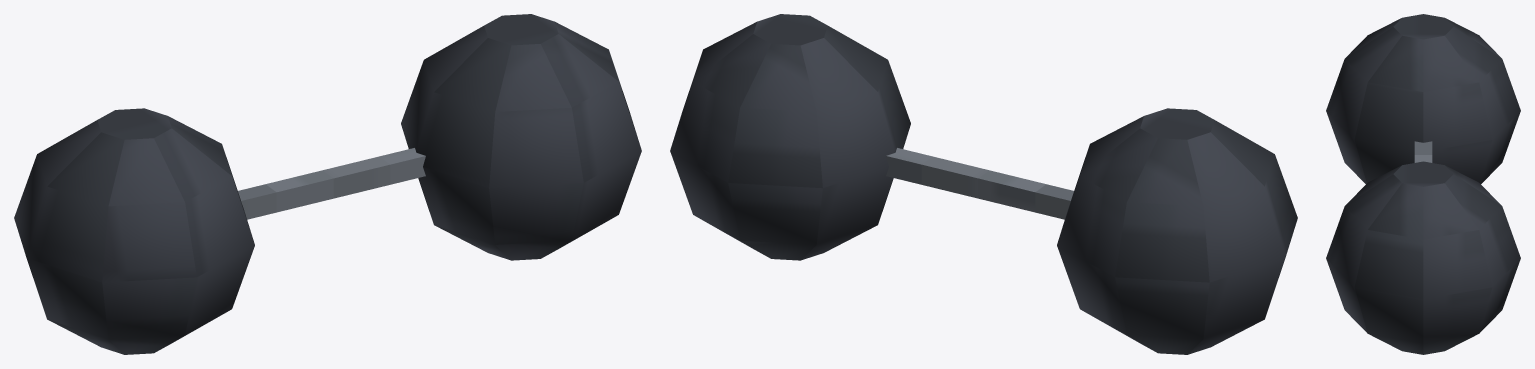
The model's file is SM_Prop_ChainShot_HQ.glb.
3 renders of one model, left to right at view 1: azimuth 30°, elevation 25°; view 2: azimuth 150°, elevation 25°; view 3: azimuth 270°, elevation 25°, orthographic. The views are drawn at different scales.
Visible parts, largest first — view 1: SM_Prop_ChainShot_HQ; view 2: SM_Prop_ChainShot_HQ; view 3: SM_Prop_ChainShot_HQ.
Part boxes in pixels (x1=…): SM_Prop_ChainShot_HQ: x1=14, y1=14, x2=641, y2=354; SM_Prop_ChainShot_HQ: x1=670, y1=14, x2=1297, y2=354; SM_Prop_ChainShot_HQ: x1=1326, y1=14, x2=1520, y2=354.
Bounding box in the file's own units: 1.06 × 0.3614 × 0.38.
Materials: 1 (1 with a texture image).
